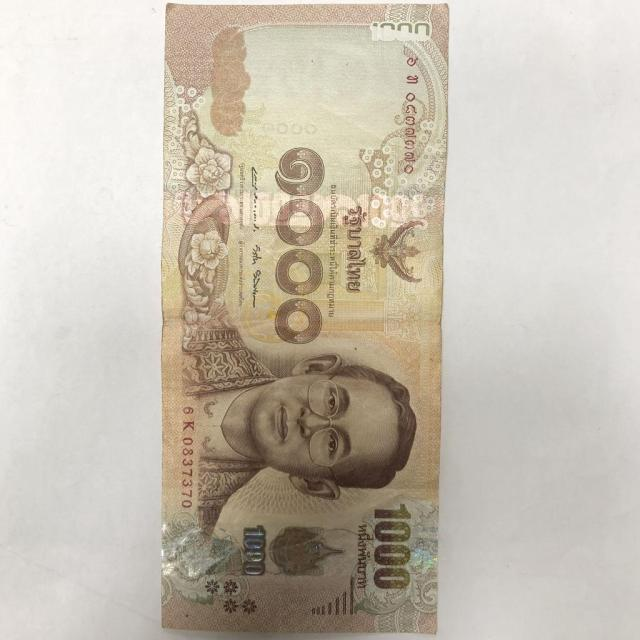THAI1000: (159, 2, 451, 638)
